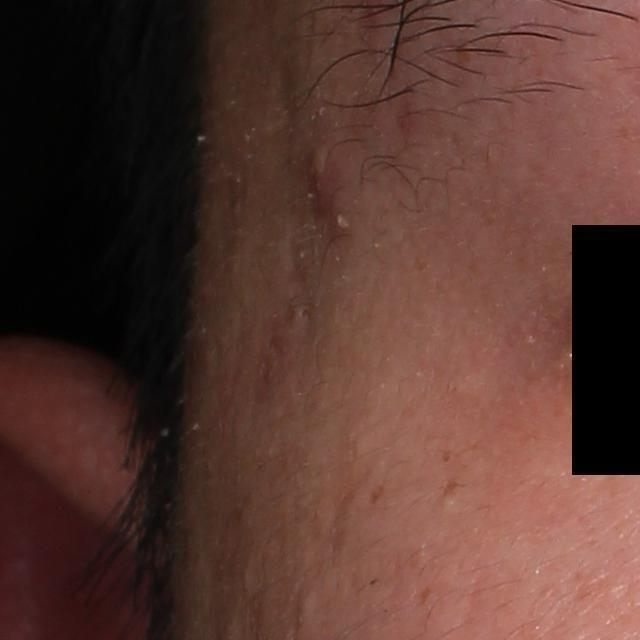comedo: (297, 586, 323, 623)
melasma: (370, 481, 387, 504)
